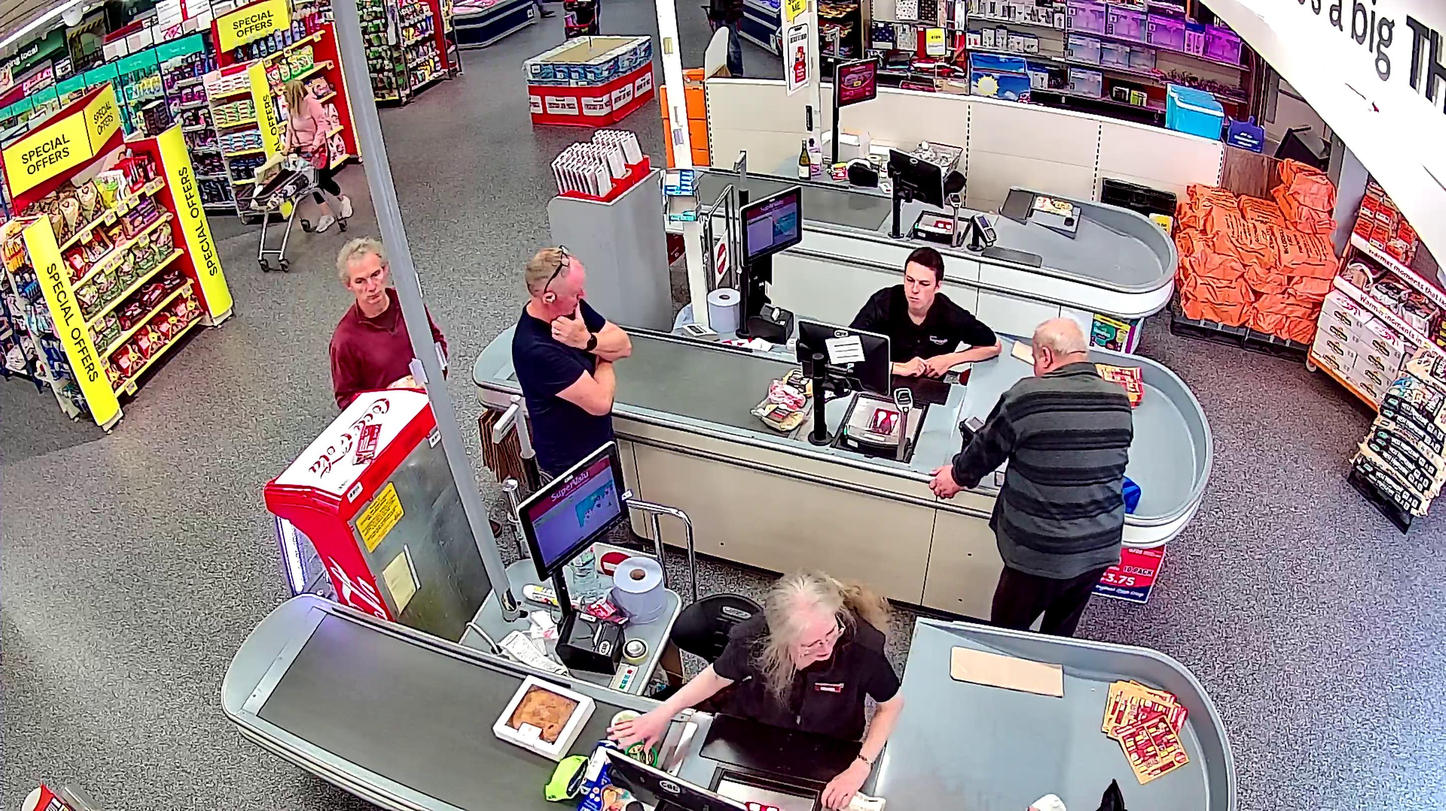filled-trolly: (234, 145, 347, 272)
occupied-checkout-counter: (518, 435, 926, 811), (734, 185, 995, 478)
person: (281, 80, 353, 233)
person-with-filled-basket-trolly: (234, 80, 353, 273)
vacant-checkout-counter: (831, 50, 1036, 249)
